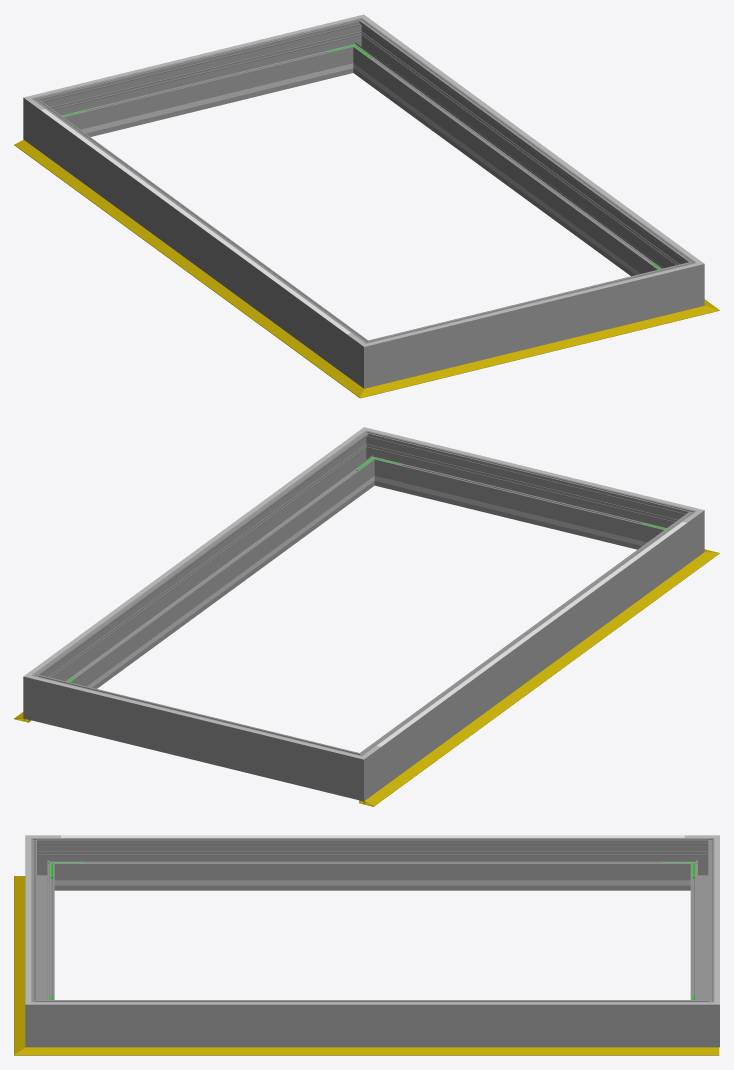
The picture shows the model from 3 angles, top to bottom: view 1: azimuth 30°, elevation 25°; view 2: azimuth 150°, elevation 25°; view 3: azimuth 270°, elevation 25°; orthographic projection.
Parts seen in each view (by area): view 1: 3DGeom-297, 3DGeom-268, 3DGeom-276, 3DGeom-298, 3DGeom-38, 3DGeom-28, 3DGeom-270, 3DGeom-313, 3DGeom-303, 3DGeom-237, 3DGeom-290, 3DGeom-244 (+4 smaller); view 2: 3DGeom-297, 3DGeom-268, 3DGeom-298, 3DGeom-276, 3DGeom-38, 3DGeom-278, 3DGeom-313, 3DGeom-303, 3DGeom-237, 3DGeom-284, 3DGeom-239, 3DGeom-290 (+3 smaller); view 3: 3DGeom-268, 3DGeom-297, 3DGeom-30, 3DGeom-232, 3DGeom-276, 3DGeom-298, 3DGeom-303, 3DGeom-313, 3DGeom-28, 3DGeom-290, 3DGeom-284, 3DGeom-278 (+4 smaller).
Part boxes in pixels (x1,y1,x2,y2): 3DGeom-297: (356,28,683,276); 3DGeom-268: (40,108,356,375); 3DGeom-276: (56,24,348,136); 3DGeom-298: (389,267,674,381); 3DGeom-38: (14,139,351,385); 3DGeom-28: (385,310,689,390); 3DGeom-270: (346,332,393,388); 3DGeom-313: (41,109,350,333); 3DGeom-303: (377,27,686,252); 3DGeom-237: (370,75,640,274); 3DGeom-290: (669,252,704,312); 3DGeom-244: (91,70,324,131); 3DGeom-297: (45,441,371,688); 3DGeom-268: (371,520,687,788); 3DGeom-298: (379,436,671,549); 3DGeom-276: (53,679,339,793); 3DGeom-38: (359,561,702,806); 3DGeom-278: (334,744,381,801); 3DGeom-313: (377,521,686,746); 3DGeom-303: (41,440,350,664); 3DGeom-237: (87,488,357,687); 3DGeom-284: (23,665,58,725); 3DGeom-239: (403,483,636,544); 3DGeom-290: (351,430,391,487); 3DGeom-268: (60,838,684,890); 3DGeom-297: (60,1000,684,1047); 3DGeom-30: (49,1047,719,1055); 3DGeom-232: (89,880,656,885); 3DGeom-276: (690,850,714,999); 3DGeom-298: (25,850,54,999); 3DGeom-303: (61,1002,684,1004); 3DGeom-313: (61,835,684,837); 3DGeom-28: (14,888,25,1039); 3DGeom-290: (25,990,60,1047); 3DGeom-284: (684,990,719,1047); 3DGeom-278: (684,838,714,890).
Size of the model in its own units: 1.83 by 0.2195 by 3.05.
